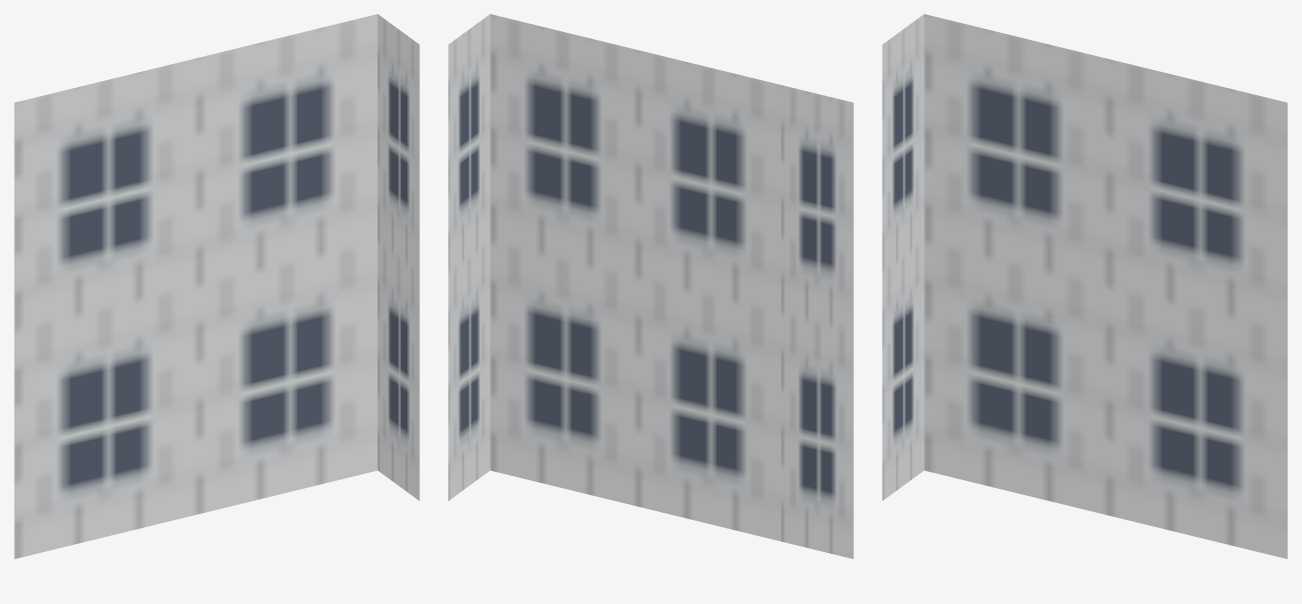
3 views of the same model, side by side, from view 1: azimuth 30°, elevation 25°; view 2: azimuth 150°, elevation 25°; view 3: azimuth 330°, elevation 25° (orthographic).
Bounding box in the file's own units: 5 × 6 × 1.
Materials: 2 (1 with a texture image).
